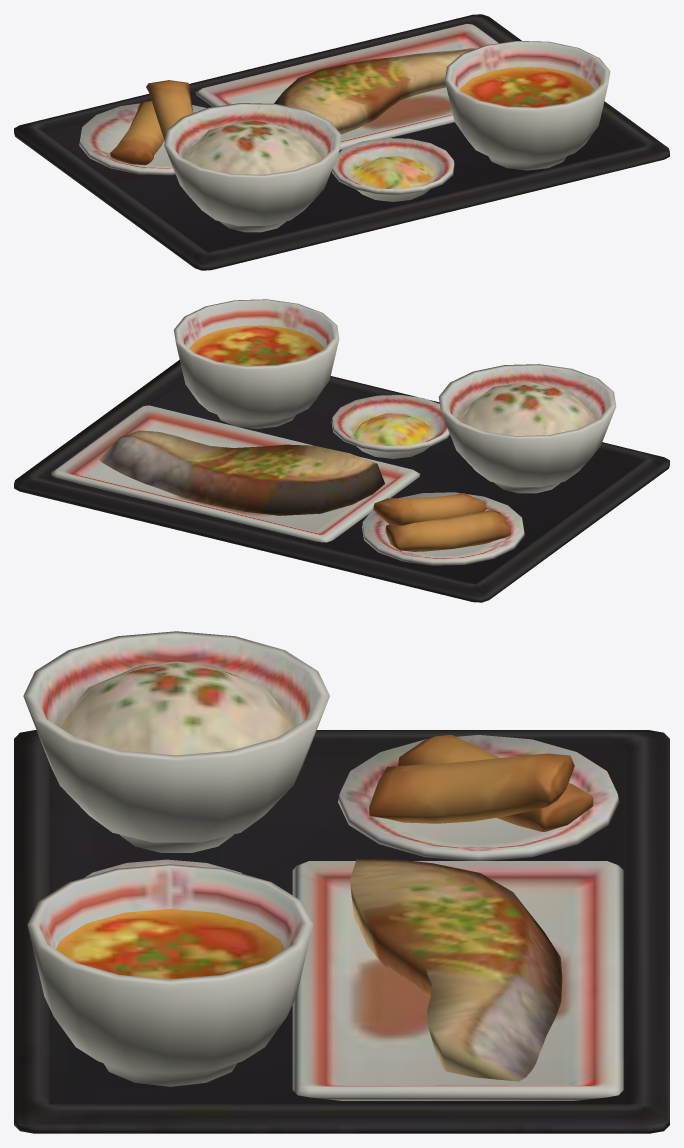
3 renders of one model, top to bottom at view 1: azimuth 30°, elevation 25°; view 2: azimuth 150°, elevation 25°; view 3: azimuth 270°, elevation 25°, orthographic. The views are drawn at different scales.
Size of the model in its own units: 9.17 by 1.77 by 6.43.
Materials: 1 (1 with a texture image).
